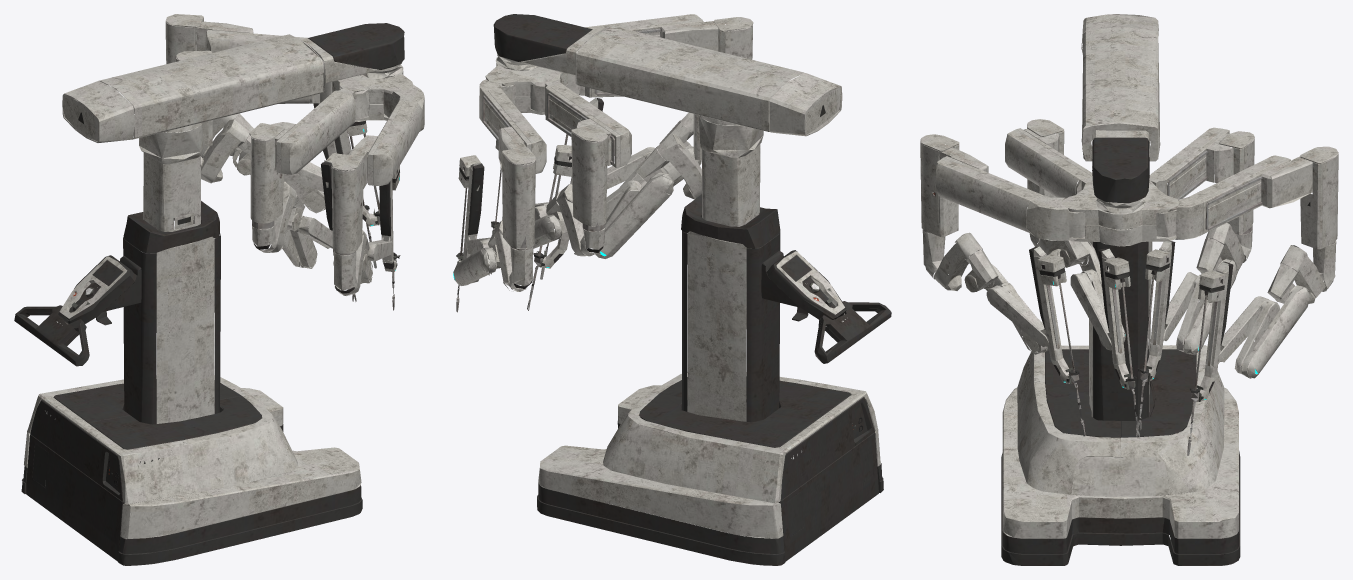
Rendered from craft_r01_tetrabrachion.glb.
3 renders of one model, left to right at view 1: azimuth 30°, elevation 25°; view 2: azimuth 150°, elevation 25°; view 3: azimuth 270°, elevation 25°, orthographic. The views are drawn at different scales.
Parts seen in each view (by area): view 1: craft_r01_tetrabrachion; view 2: craft_r01_tetrabrachion; view 3: craft_r01_tetrabrachion.
Part boxes in pixels (x1,y1,x2,y2): craft_r01_tetrabrachion: (14, 14, 424, 565); craft_r01_tetrabrachion: (453, 14, 891, 565); craft_r01_tetrabrachion: (920, 14, 1338, 565).
Size of the model in its own units: 1.76 by 2.02 by 1.7.
9 materials, 8 textured.
